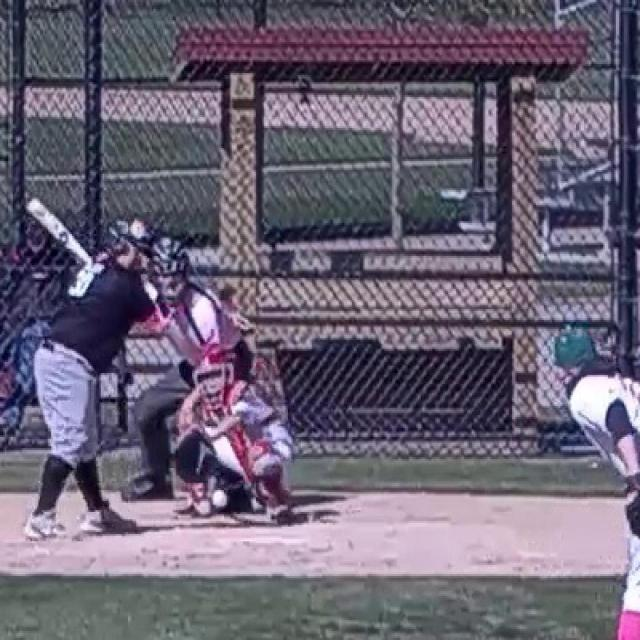baseball: (214, 492, 226, 505)
